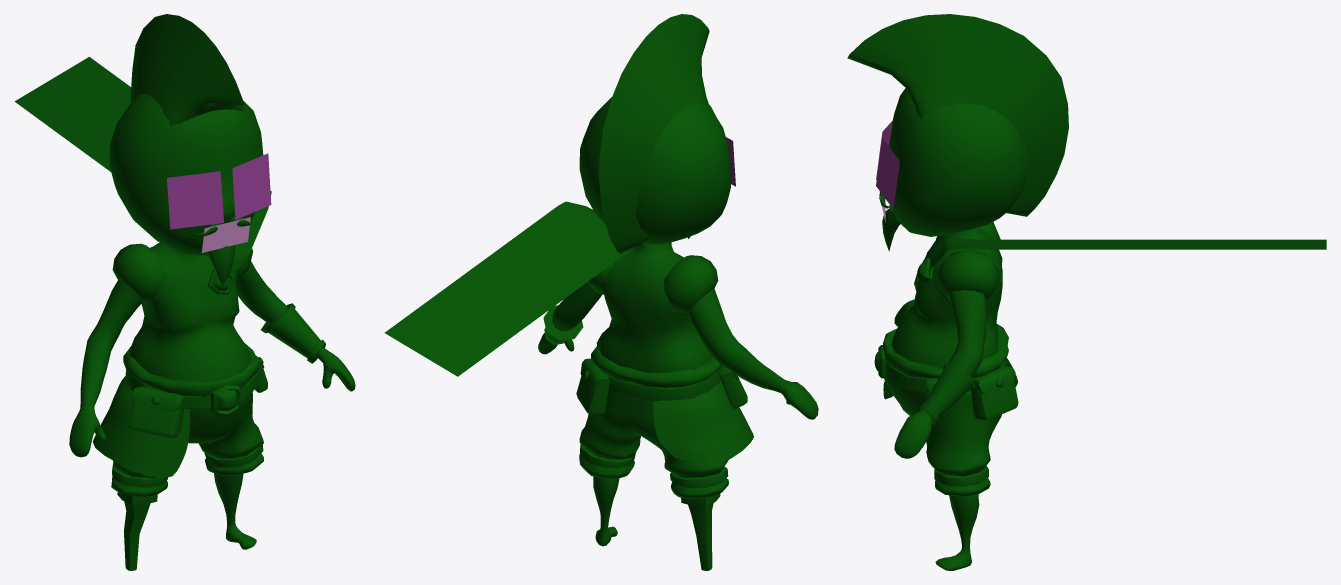
Rendered from Bard_Undead.fbx.
3 renders of one model, left to right at view 1: azimuth 30°, elevation 25°; view 2: azimuth 150°, elevation 25°; view 3: azimuth 270°, elevation 25°, orthographic. The views are drawn at different scales.
Visible parts, largest first — view 1: Bard_Torso_Undead, Bard_Head_Undead, Bard_Legs_Undead, Character_Eyes, Character_Mouth; view 2: Bard_Torso_Undead, Bard_Head_Undead, Bard_Legs_Undead; view 3: Bard_Head_Undead, Bard_Torso_Undead, Bard_Legs_Undead, Character_Eyes.
Part boxes in pixels (x1,y1,x2,y2): Bard_Torso_Undead: (14, 56, 355, 457); Bard_Head_Undead: (109, 14, 263, 285); Bard_Legs_Undead: (92, 342, 267, 570); Character_Eyes: (167, 153, 271, 229); Character_Mouth: (201, 217, 250, 252); Bard_Torso_Undead: (384, 201, 818, 419); Bard_Head_Undead: (579, 14, 730, 254); Bard_Legs_Undead: (576, 346, 753, 570); Bard_Head_Undead: (847, 14, 1068, 251); Bard_Torso_Undead: (891, 222, 1326, 458); Bard_Legs_Undead: (874, 324, 1018, 570); Character_Eyes: (876, 121, 899, 209).
Size of the model in its own units: 122 by 224 by 183.
